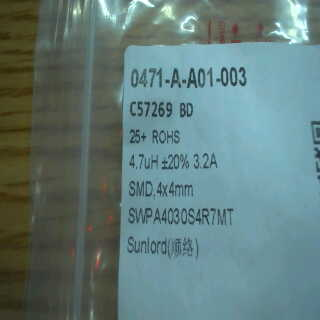4.7uH: (125, 150, 161, 171)
